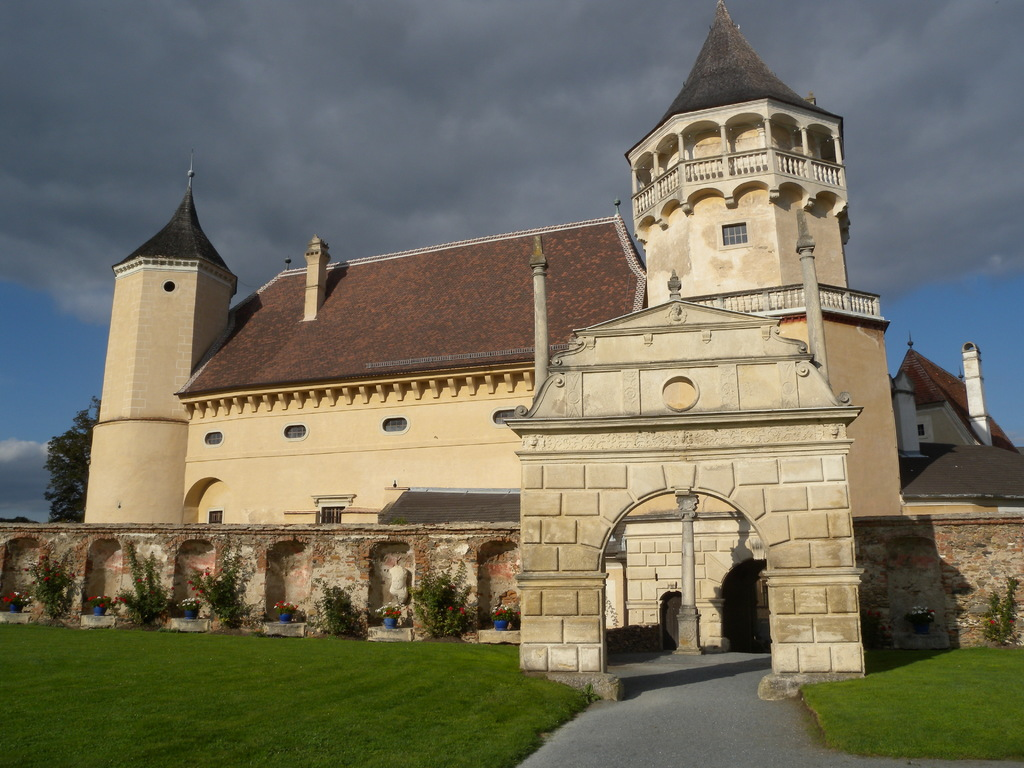Tree: (42, 394, 101, 524)
